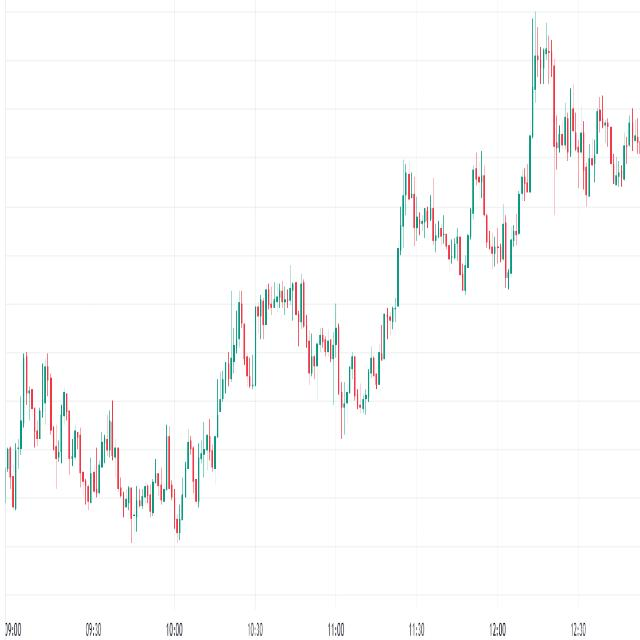Rounding-Bottom: (23, 326, 240, 548), (296, 234, 401, 438)
